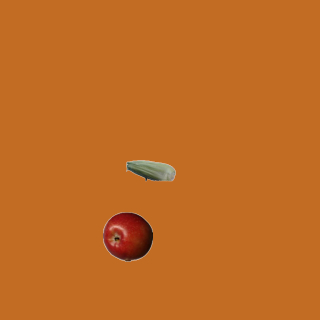Apple Braeburn: (102, 211, 152, 261)
Corn Husk: (125, 145, 175, 195)
